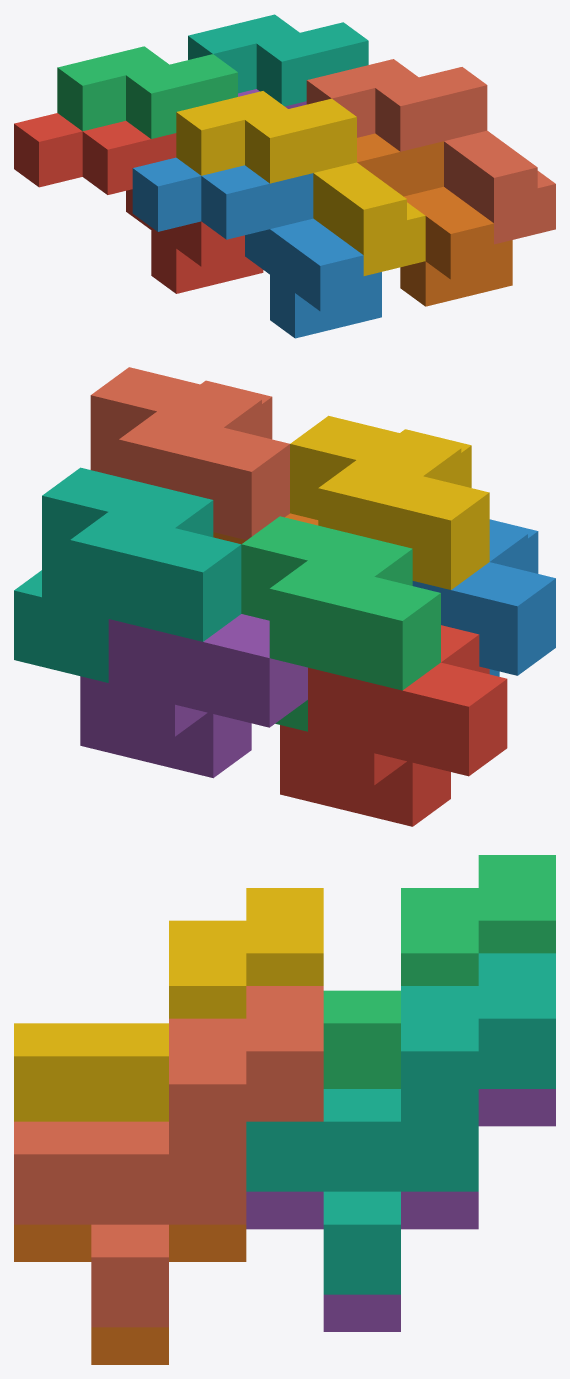
The model's file is tiling.obj.
The picture shows the model from 3 angles, top to bottom: view 1: azimuth 30°, elevation 25°; view 2: azimuth 150°, elevation 25°; view 3: azimuth 270°, elevation 25°; orthographic projection. The views are drawn at different scales.
Parts seen in each view (by area): view 1: copy_1_domain_2, copy_1_domain_4, copy_1_domain_8, copy_1_domain_1, copy_1_domain_6, copy_1_domain_3, copy_1_domain_7; view 2: copy_1_domain_7, copy_1_domain_1, copy_1_domain_3, copy_1_domain_5, copy_1_domain_8, copy_1_domain_4, copy_1_domain_2; view 3: copy_1_domain_8, copy_1_domain_7, copy_1_domain_4, copy_1_domain_3, copy_1_domain_5, copy_1_domain_6.
Part boxes in pixels (x1,y1,x2,y2): copy_1_domain_2: [132, 157, 381, 338]; copy_1_domain_4: [176, 91, 425, 275]; copy_1_domain_8: [306, 59, 555, 244]; copy_1_domain_1: [14, 113, 263, 293]; copy_1_domain_6: [357, 133, 512, 306]; copy_1_domain_3: [57, 46, 237, 138]; copy_1_domain_7: [188, 14, 368, 106]; copy_1_domain_7: [14, 467, 241, 682]; copy_1_domain_1: [280, 625, 507, 826]; copy_1_domain_3: [241, 516, 440, 731]; copy_1_domain_5: [80, 614, 307, 778]; copy_1_domain_8: [90, 367, 289, 540]; copy_1_domain_4: [290, 415, 489, 589]; copy_1_domain_2: [412, 519, 555, 676]; copy_1_domain_8: [14, 986, 323, 1327]; copy_1_domain_7: [246, 953, 555, 1294]; copy_1_domain_4: [14, 888, 323, 1121]; copy_1_domain_3: [323, 855, 555, 1088]; copy_1_domain_5: [246, 1089, 555, 1331]; copy_1_domain_6: [14, 1224, 246, 1364].
Size of the model in its own units: 9 by 4 by 7.
